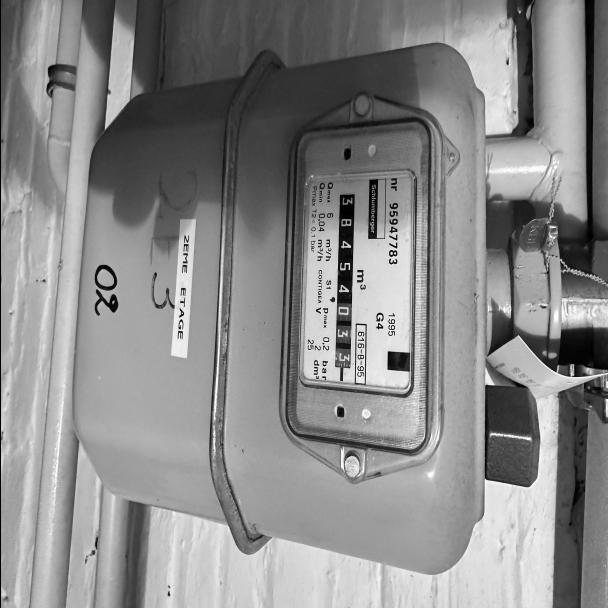0: (332, 303, 352, 323)
3: (331, 345, 351, 372), (332, 324, 354, 348), (337, 192, 354, 212)
4: (334, 234, 354, 258), (334, 281, 354, 305)
5: (336, 256, 356, 282)
8: (336, 213, 355, 235)
cm: (327, 303, 354, 375)
counter: (333, 189, 357, 305)
